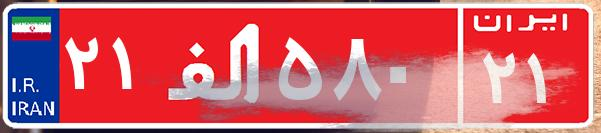0: (385, 28, 445, 110)
1: (110, 28, 158, 105), (525, 38, 570, 115)
2: (57, 26, 110, 107), (475, 38, 525, 113)
5: (273, 28, 330, 110)
8: (330, 28, 385, 110)
الف: (158, 15, 273, 115)
